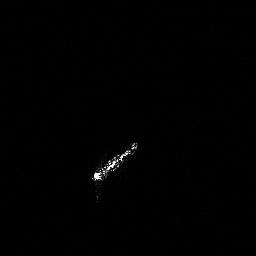ship: (87, 138, 142, 188)
